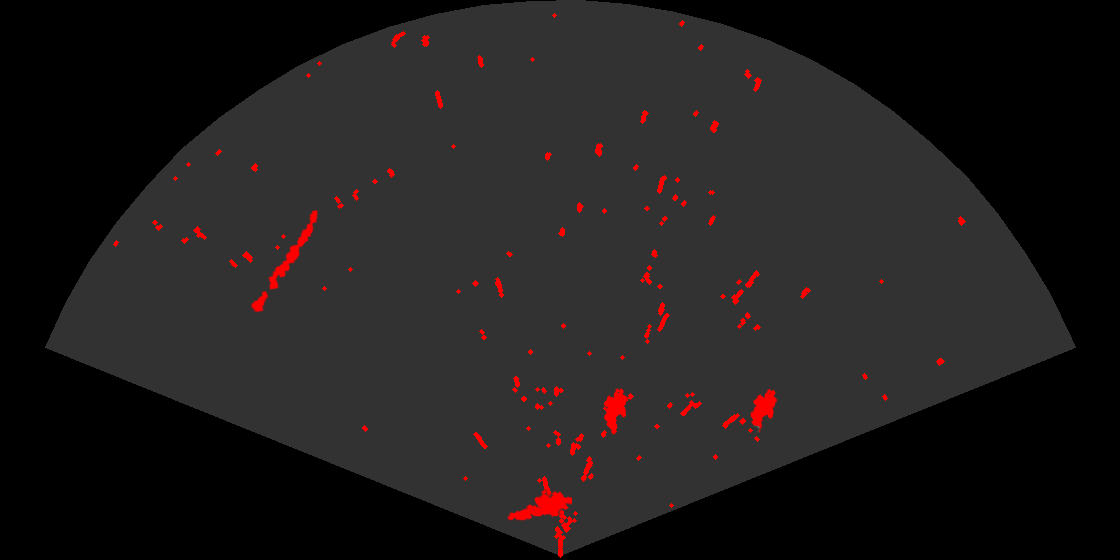AUV: (749, 387, 779, 434), (602, 387, 628, 436)
chain: (249, 208, 320, 314)
frogman: (506, 488, 572, 522)
